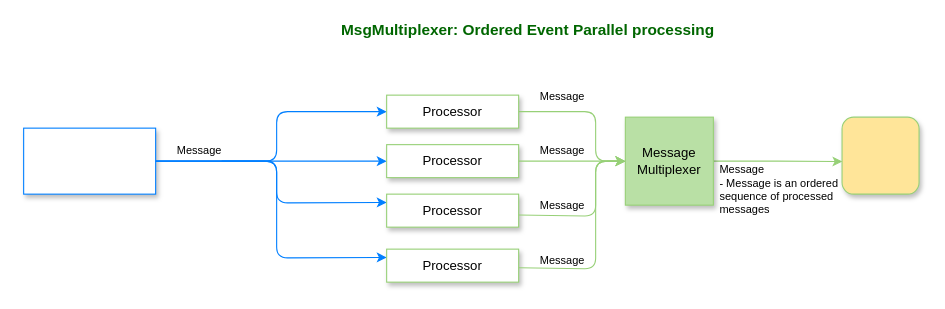
Image size: 945x309. Some labels were removed from this diagram. Here are the shapes that lost their labels. From the top down, the centre of each, then its label:
At (90,162): "Bcaster".
At (881,157): "Ordered Sequence of Messages".
